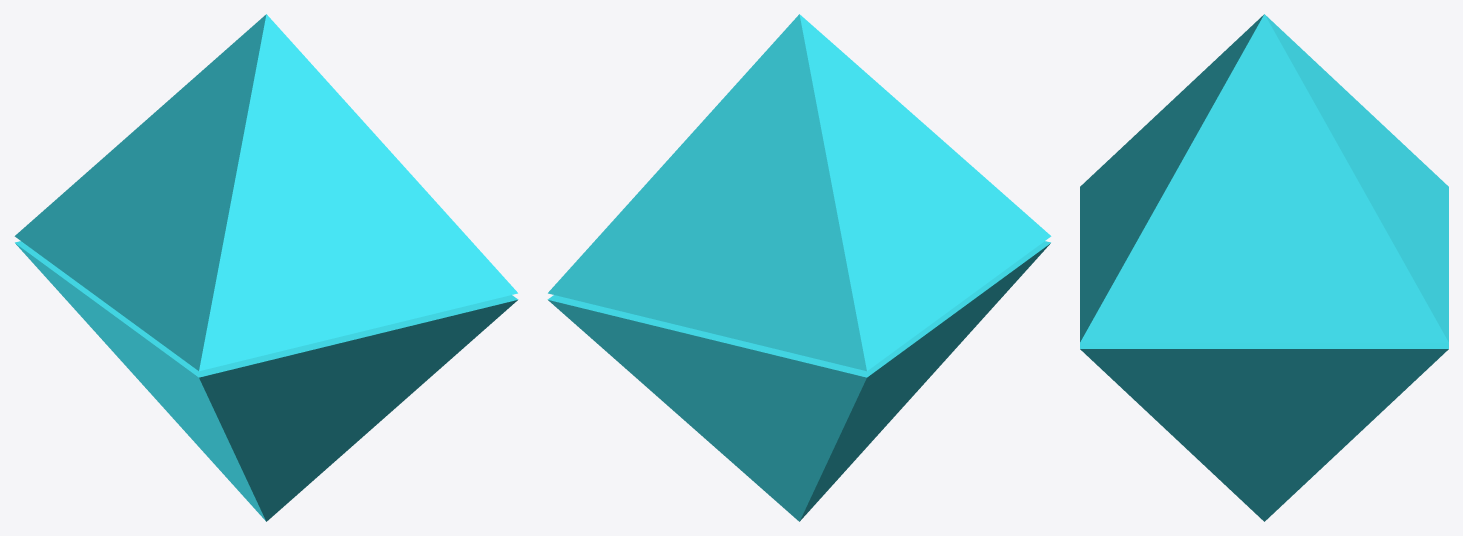
File: ramiel_v1.gltf
3 renders of one model, left to right at view 1: azimuth 30°, elevation 25°; view 2: azimuth 150°, elevation 25°; view 3: azimuth 270°, elevation 25°, orthographic.
Visible parts, largest first — view 1: 立方体, 立方体.001; view 2: 立方体, 立方体.001; view 3: 立方体, 立方体.001.
Part boxes in pixels (x1=…): 立方体: x1=14, y1=14, x2=517, y2=371; 立方体.001: x1=15, y1=241, x2=518, y2=521; 立方体: x1=548, y1=14, x2=1051, y2=371; 立方体.001: x1=547, y1=241, x2=1050, y2=521; 立方体: x1=1080, y1=14, x2=1448, y2=342; 立方体.001: x1=1080, y1=342, x2=1448, y2=521.
Bounding box in the file's own units: 2 × 3.04 × 2.
